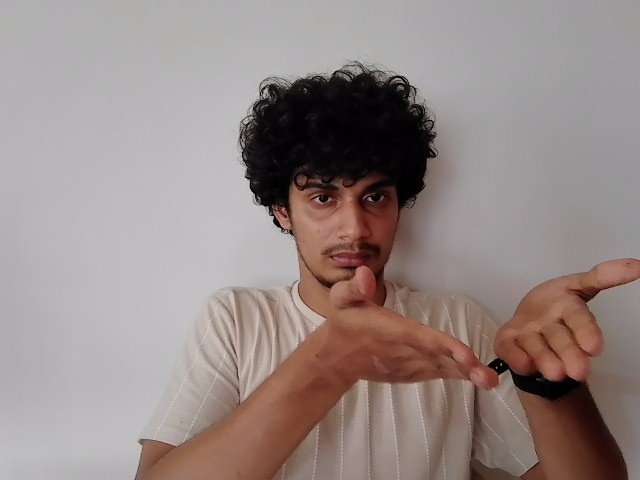here: (323, 256, 640, 383)
